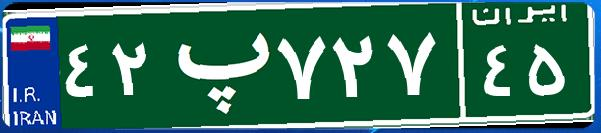2: (330, 28, 385, 110), (110, 28, 158, 105)
4: (57, 26, 110, 107), (475, 38, 525, 113)
5: (525, 38, 570, 115)
7: (385, 28, 445, 110), (273, 28, 330, 110)
پ: (158, 15, 273, 115)
